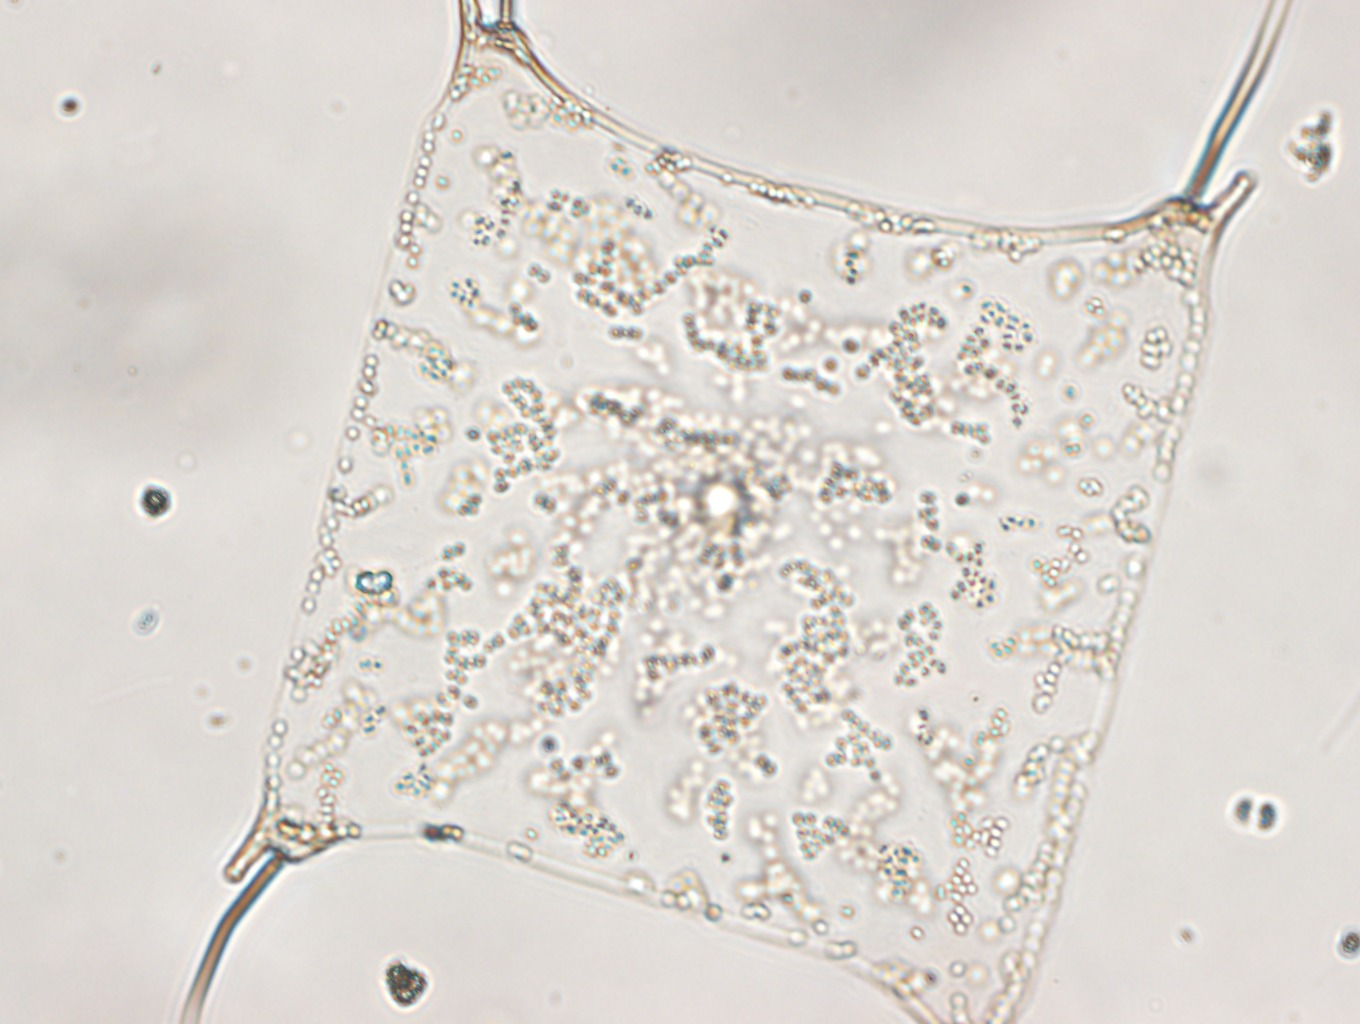biddulphia: (175, 1, 1286, 1019)
